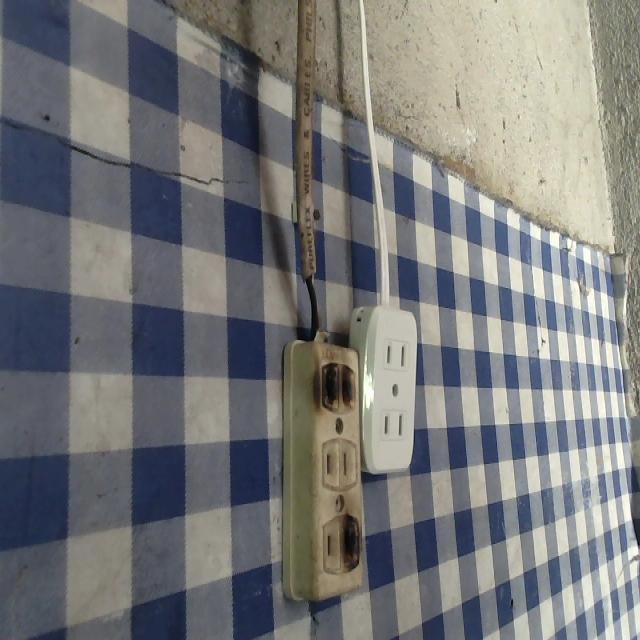-: (314, 355, 361, 412), (337, 513, 366, 575)
